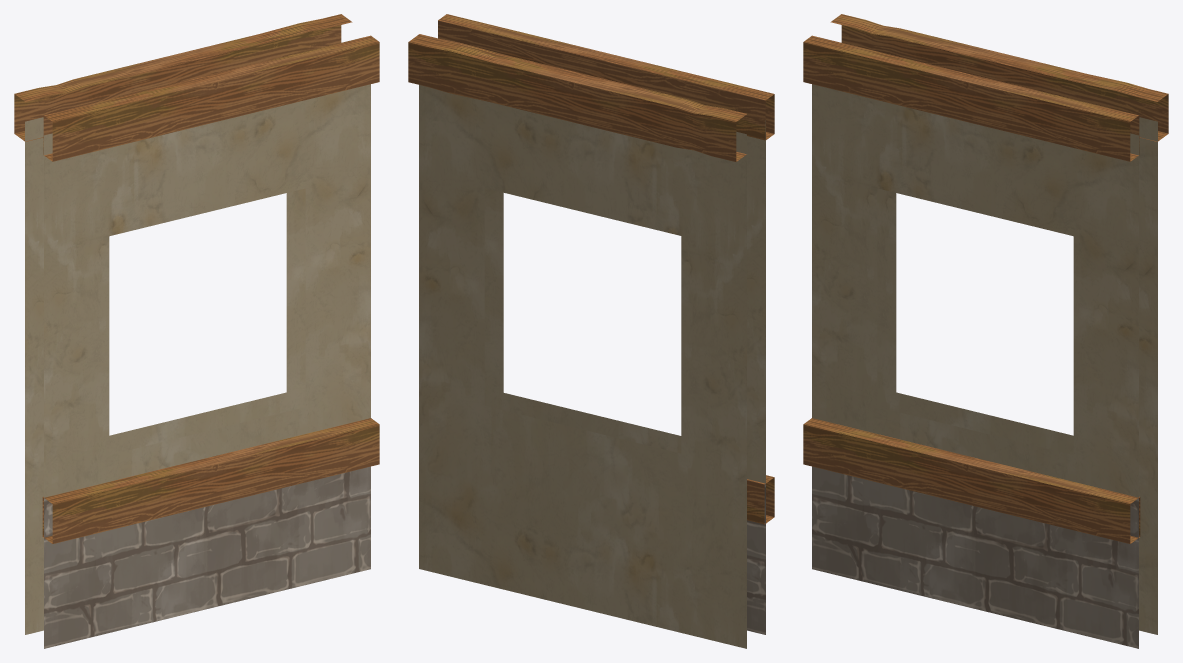
The model's file is Wall_Plaster_Window_Wide_Flat.gltf.
The picture shows the model from 3 angles, left to right: view 1: azimuth 30°, elevation 25°; view 2: azimuth 150°, elevation 25°; view 3: azimuth 330°, elevation 25°; orthographic projection.
Visible parts, largest first — view 1: Wall_Plaster_Window_Wide_Flat; view 2: Wall_Plaster_Window_Wide_Flat; view 3: Wall_Plaster_Window_Wide_Flat.
Part boxes in pixels (x1,y1,x2,y2): Wall_Plaster_Window_Wide_Flat: (14, 14, 379, 648); Wall_Plaster_Window_Wide_Flat: (408, 14, 774, 648); Wall_Plaster_Window_Wide_Flat: (803, 14, 1168, 648).
Size of the model in its own units: 2 by 3.12 by 0.4065.
Materials: 3 (3 with a texture image).
